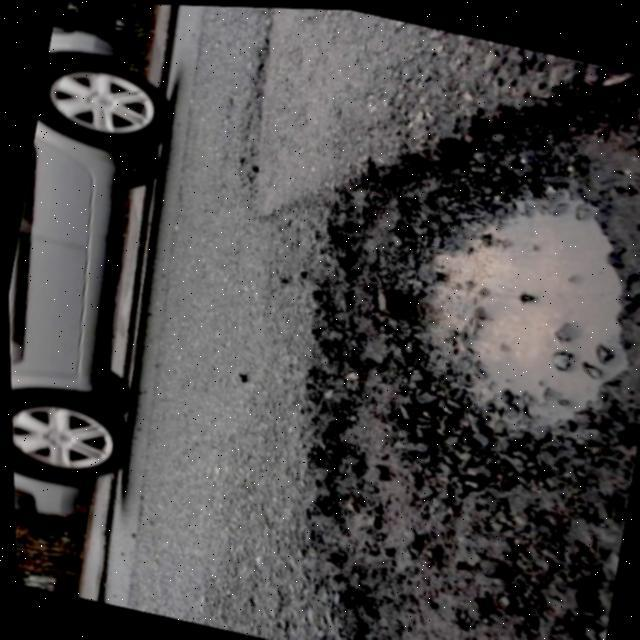pothole: (263, 107, 640, 640)
